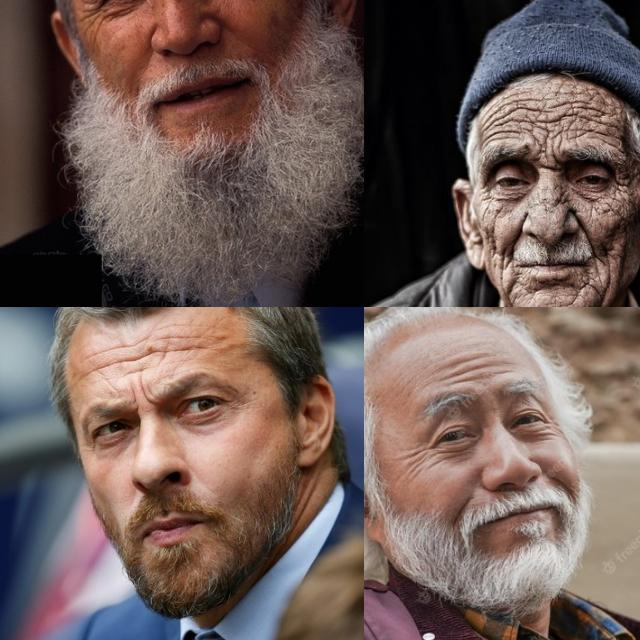bunny_line: (548, 185, 576, 208)
chin: (496, 268, 520, 302), (570, 278, 594, 302)
crows_feet: (403, 442, 437, 472), (77, 0, 107, 33), (612, 171, 634, 199), (543, 416, 561, 436)
forehead: (570, 101, 610, 137), (444, 354, 488, 386), (530, 101, 562, 141), (164, 329, 208, 358), (130, 334, 160, 376), (484, 111, 518, 139), (83, 359, 125, 376), (85, 340, 125, 356)
frown_line: (129, 382, 155, 410), (532, 150, 562, 172)
gummy_smile: (505, 222, 531, 255), (574, 211, 596, 249), (451, 491, 474, 524), (547, 470, 573, 492)
masseter: (596, 264, 620, 298)
